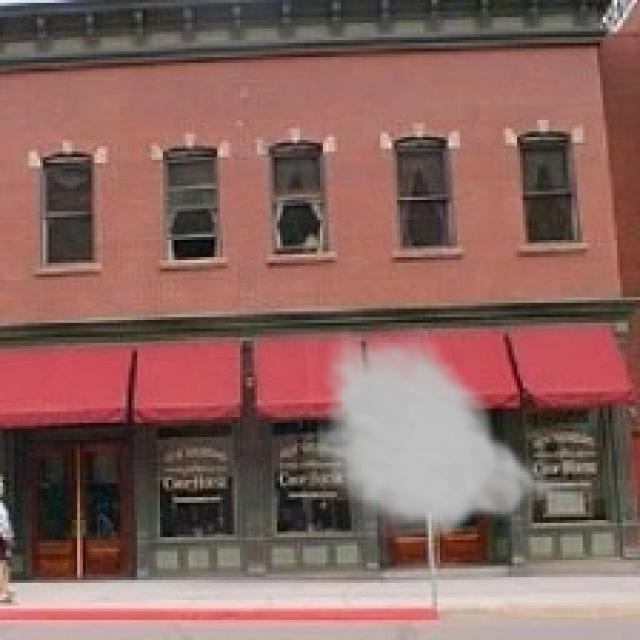smoke: (312, 323, 577, 546)
